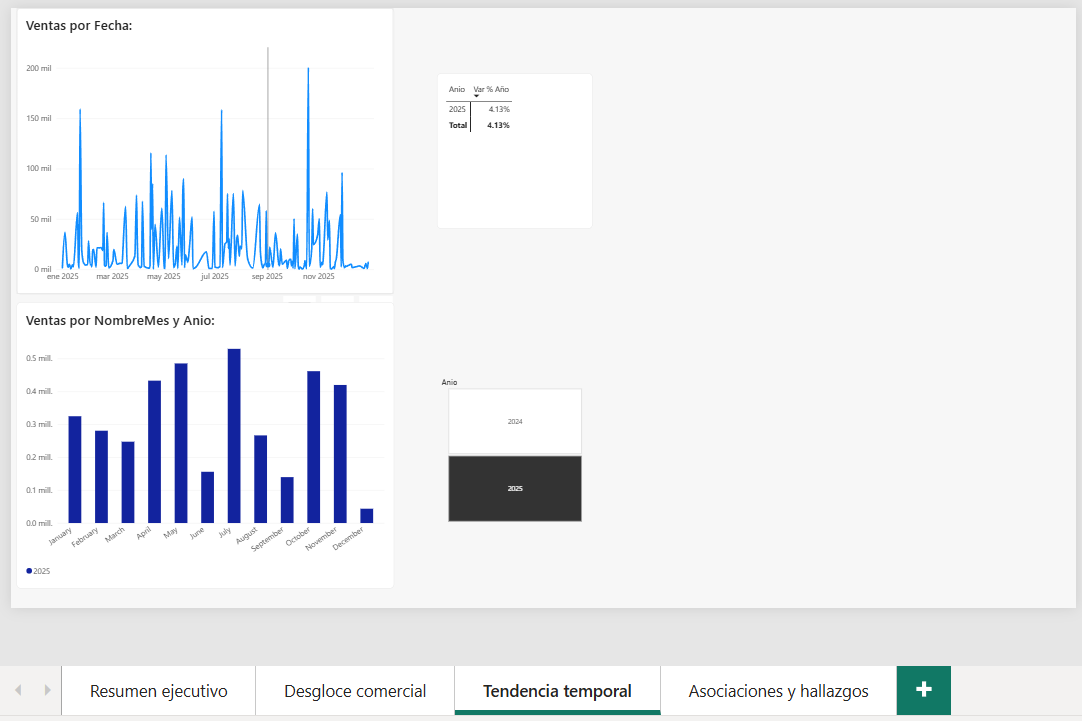

What the dashboard file says about the page in this screenshot:
{"tool":"powerbi","page":{"name":"Tendencia temporal","canvas":[1920,1080],"ordinal":2},"visuals":[{"type":"lineChart","title":"Ventas por Fecha:","fields":{"Category":["Dim Fecha.Fecha"],"Y":["Medidas.Ventas Totales"]},"box":[10,0,680,516],"z":0},{"type":"clusteredColumnChart","title":"Ventas por NombreMes y Anio:","fields":{"Category":["Dim Fecha.NombreMes"],"Series":["Dim Fecha.Anio"],"Y":["Medidas.Ventas Totales"]},"box":[10,530,680,516],"z":1000},{"type":"pivotTable","fields":{"Rows":["Dim Fecha.Anio"],"Values":["Medidas.Var % Año"]},"box":[768,118,280,280],"z":2000},{"type":"slicer","fields":{"Values":["Dim Fecha.Anio"]},"box":[768,666,280,262],"z":3000}]}

Visuals, with their boxes on the page's 1920x1080 design canvas (x1, y1, x2, y2). These are canvas units, not pixel positions in the 1082x721 screenshot, which may show the page scaled, cropped or inside an application window:
"Ventas por Fecha:" lineChart: crop(10, 0, 690, 516)
"Ventas por NombreMes y Anio:" clusteredColumnChart: crop(10, 530, 690, 1046)
pivotTable - Dim Fecha.Anio x Medidas.Var % Año: crop(768, 118, 1048, 398)
slicer - Dim Fecha.Anio: crop(768, 666, 1048, 928)
